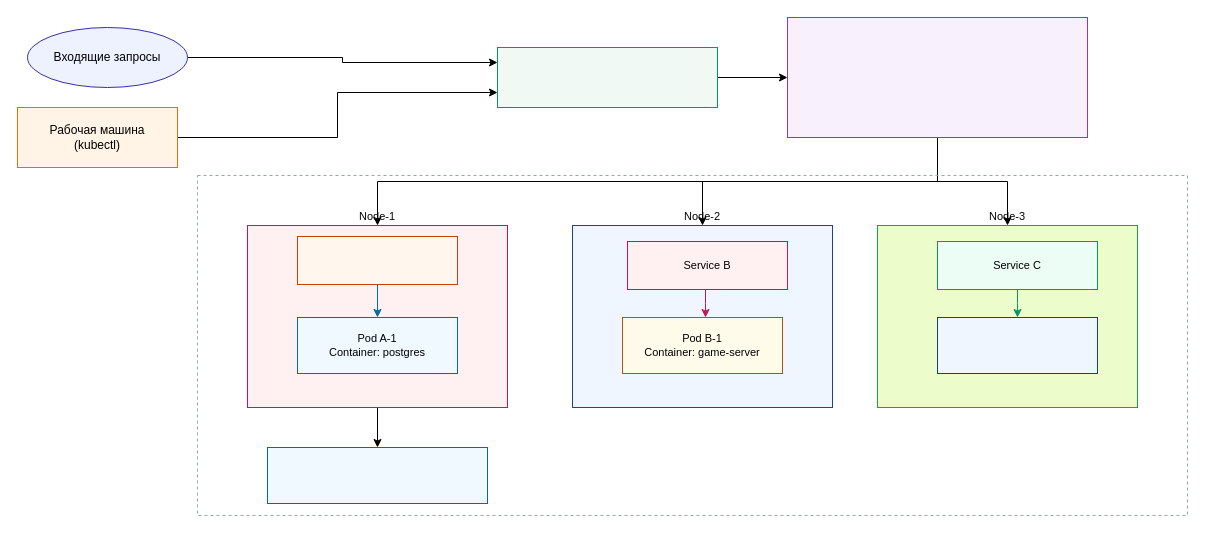
This 1205x533 diagram has some shape labels left out. The centre of each missing label's shape, as x and y in pixels:
Control Plane API интерфейс etcd Scheduler: the point at 937,77
LoadBalancer: the point at 607,77
Pod C-1 Container: blog: the point at 1017,345
Service A: the point at 377,260
Volume: the point at 377,475
